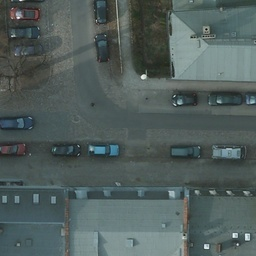car: (4, 14, 38, 48), (85, 30, 119, 64), (11, 1, 45, 29), (84, 1, 118, 28), (86, 143, 122, 159), (1, 116, 36, 132), (208, 91, 241, 107), (170, 144, 202, 160), (172, 91, 197, 106), (51, 144, 80, 156), (12, 1, 46, 11), (1, 143, 29, 155)
van: (212, 144, 244, 160)
